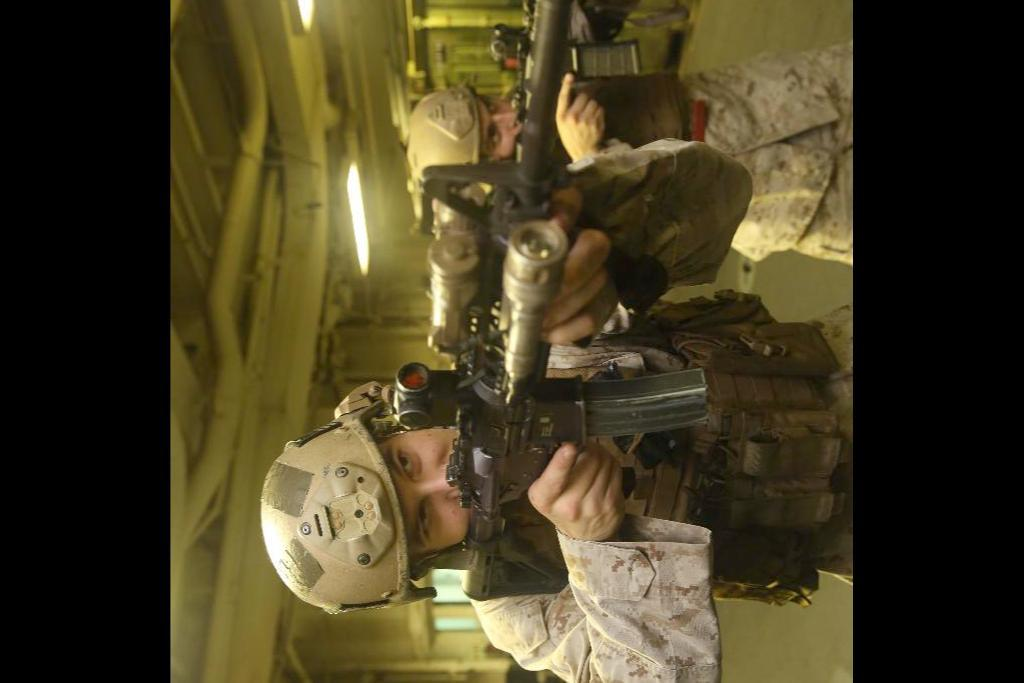gun: (389, 0, 756, 621)
